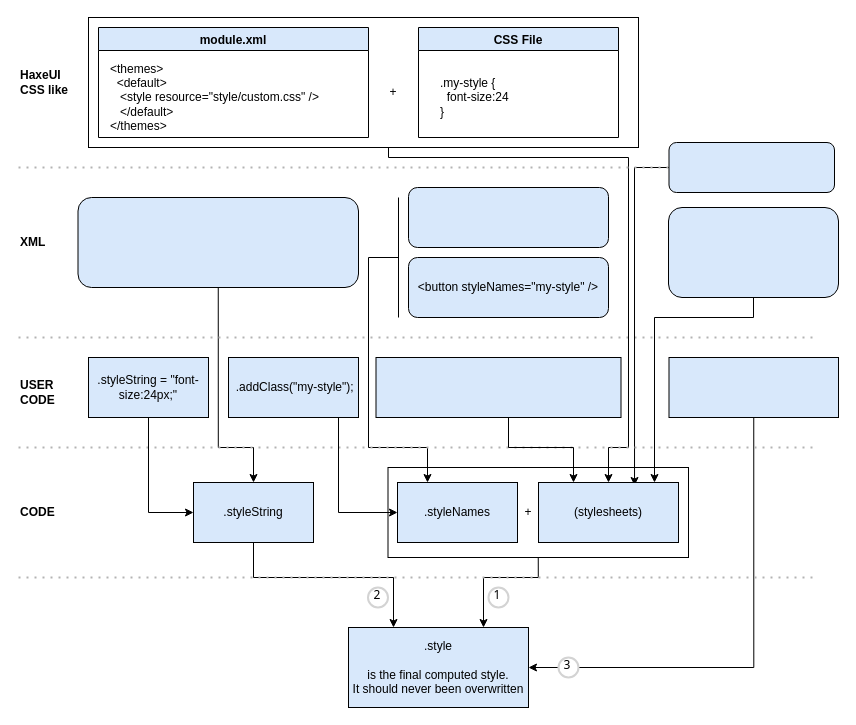
The diagram is 856 pixels wide and 725 high, and some of its shapes have lost their labels. The centre of each missing label's shape, as x and y in pixels:
.customStyle.fontSize = 24 .invalidateComponentStyle();: pixel 753 387
.styleSheet = new StyleSheet(); .styleSheet.parse(".my-style {font-size:24}");: pixel 498 387
<button styleName="my-style" />: pixel 508 217
<button text="Click Me!" style="font-size: 24px;" />: pixel 217 242
<style source="custom.css" />: pixel 751 167
<style> .my-style { font-size:24 } </style>: pixel 753 252
